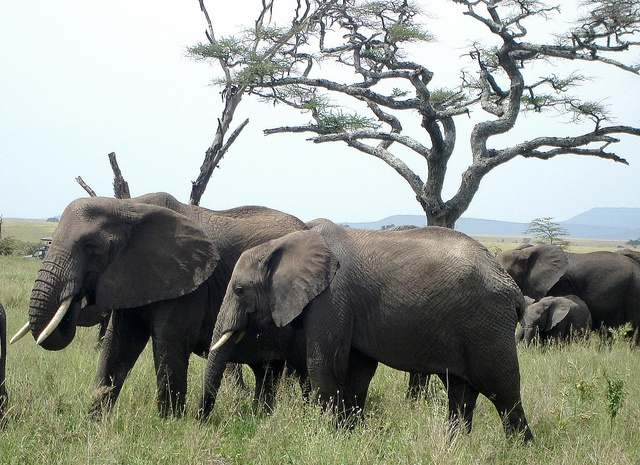elephant: (195, 225, 537, 443), (9, 192, 313, 421), (496, 243, 640, 351), (517, 289, 593, 350)
